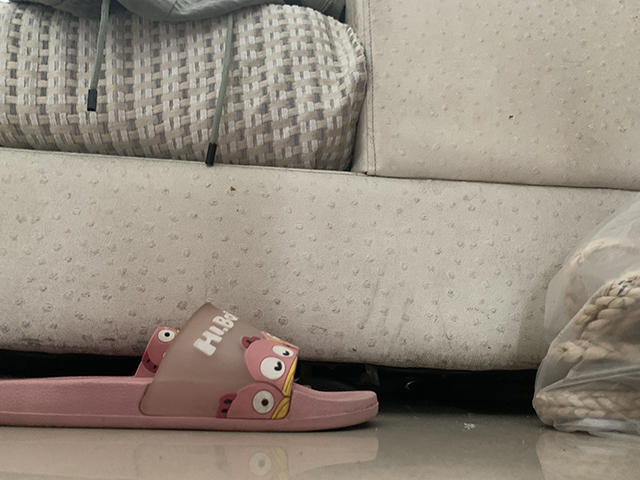slippers: (1, 299, 383, 436)
sofa: (1, 1, 640, 372)
